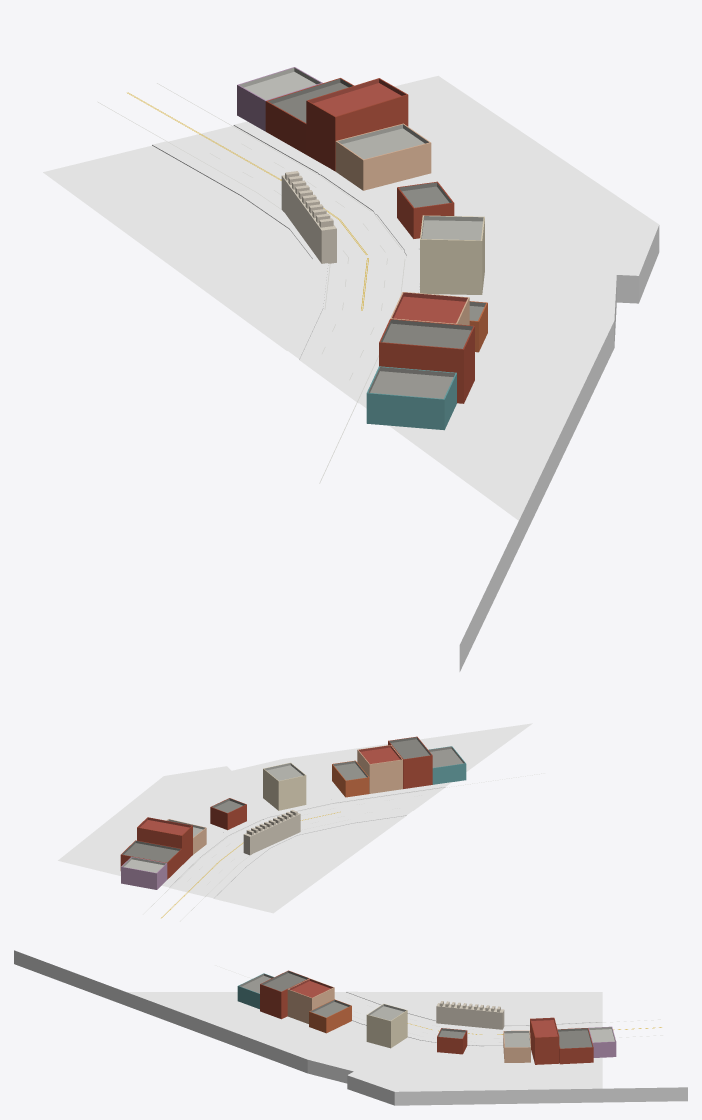
3 renders of one model, top to bottom at view 1: azimuth 30°, elevation 25°; view 2: azimuth 150°, elevation 25°; view 3: azimuth 270°, elevation 25°, orthographic. The views are drawn at different scales.
Parts seen in each view (by area): view 1: plaza, asphalt, walls, roofs, sidewalk, coast, stone, markings; view 2: plaza, walls, asphalt, roofs, sidewalk, stone, markings; view 3: plaza, coast, walls, asphalt, roofs, stone, sidewalk, markings.
Boxes of the visible parts, left/top/right/bottom form: plaza: left=43, top=75, right=659, bottom=520; asphalt: left=168, top=119, right=535, bottom=477; walls: left=237, top=85, right=487, bottom=430; roofs: left=237, top=67, right=487, bottom=399; sidewalk: left=152, top=121, right=419, bottom=408; coast: left=459, top=225, right=659, bottom=671; stone: left=281, top=171, right=336, bottom=263; markings: left=97, top=83, right=405, bottom=483; plaza: left=58, top=723, right=532, bottom=913; walls: left=120, top=741, right=466, bottom=889; asphalt: left=93, top=747, right=500, bottom=896; roofs: left=121, top=736, right=465, bottom=873; sidewalk: left=162, top=782, right=451, bottom=898; stone: left=243, top=809, right=300, bottom=855; markings: left=143, top=773, right=544, bottom=921; plaza: left=126, top=992, right=602, bottom=1091; coast: left=14, top=950, right=687, bottom=1105; walls: left=237, top=984, right=616, bottom=1064; asphalt: left=185, top=992, right=602, bottom=1072; roofs: left=238, top=970, right=616, bottom=1048; stone: left=436, top=1001, right=504, bottom=1029; sidewalk: left=346, top=991, right=602, bottom=1046; markings: left=215, top=965, right=662, bottom=1042.
Size of what is drawn, in the model's own units: 110 by 14.85 by 222.
